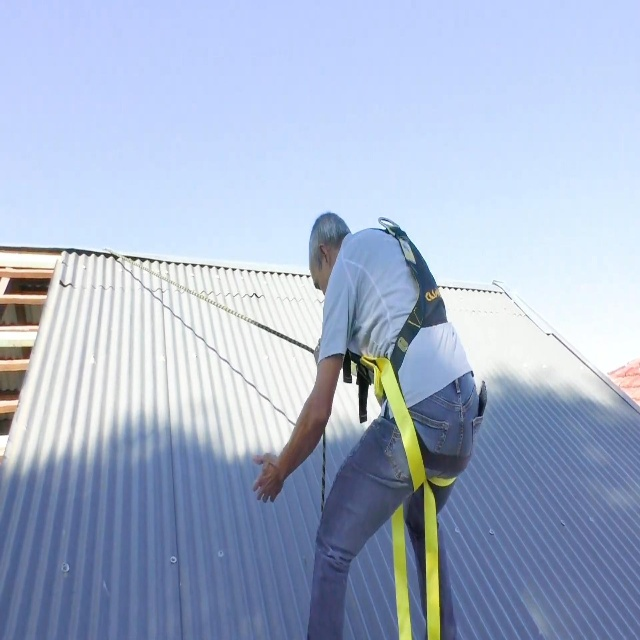Arnes_seguridad: (332, 195, 477, 640)
